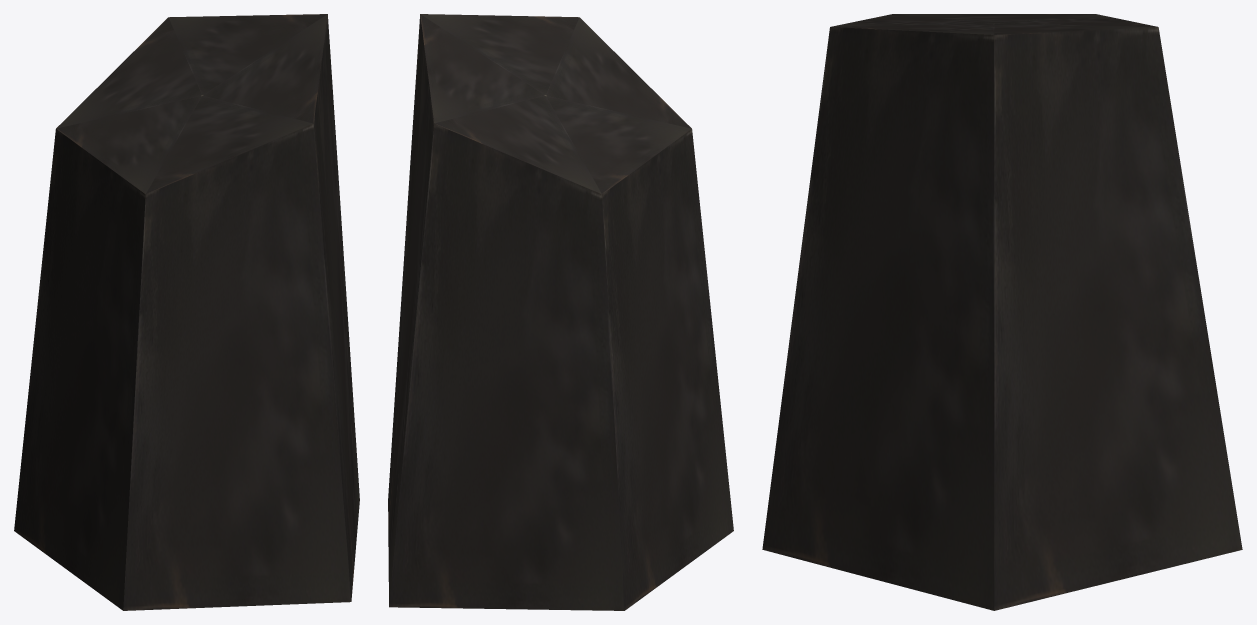
Rendered from treestumpburn.gltf.
The picture shows the model from 3 angles, left to right: view 1: azimuth 30°, elevation 25°; view 2: azimuth 150°, elevation 25°; view 3: azimuth 270°, elevation 25°; orthographic projection. The views are drawn at different scales.
Parts seen in each view (by area): view 1: treestumpburn_atomic0; view 2: treestumpburn_atomic0; view 3: treestumpburn_atomic0.
Boxes of the visible parts, bbox=[...] form: treestumpburn_atomic0: bbox=[14, 14, 359, 610]; treestumpburn_atomic0: bbox=[388, 14, 733, 610]; treestumpburn_atomic0: bbox=[762, 14, 1242, 610].
Size of the model in its own units: 4.82 by 7.81 by 6.09.
1 material, 1 textured.
